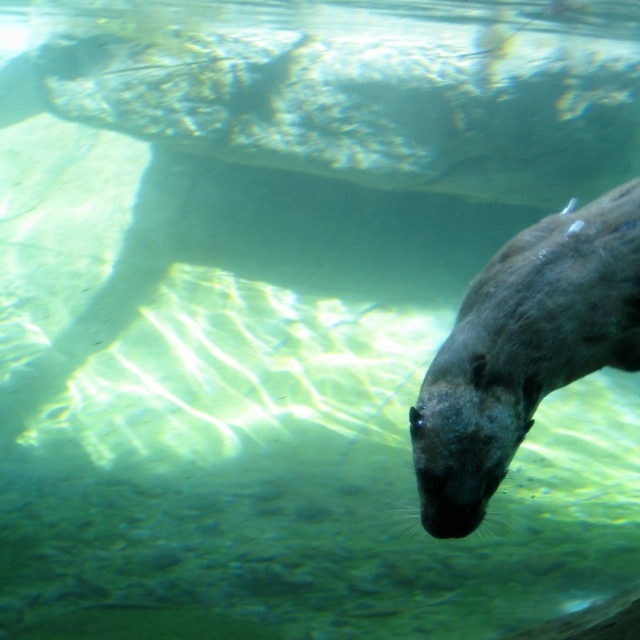Harbor seal: (384, 174, 640, 546)
